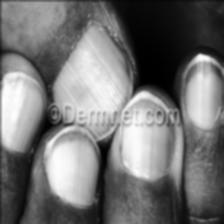Toxin: (98, 64, 140, 106), (0, 64, 46, 98), (84, 125, 124, 143)
